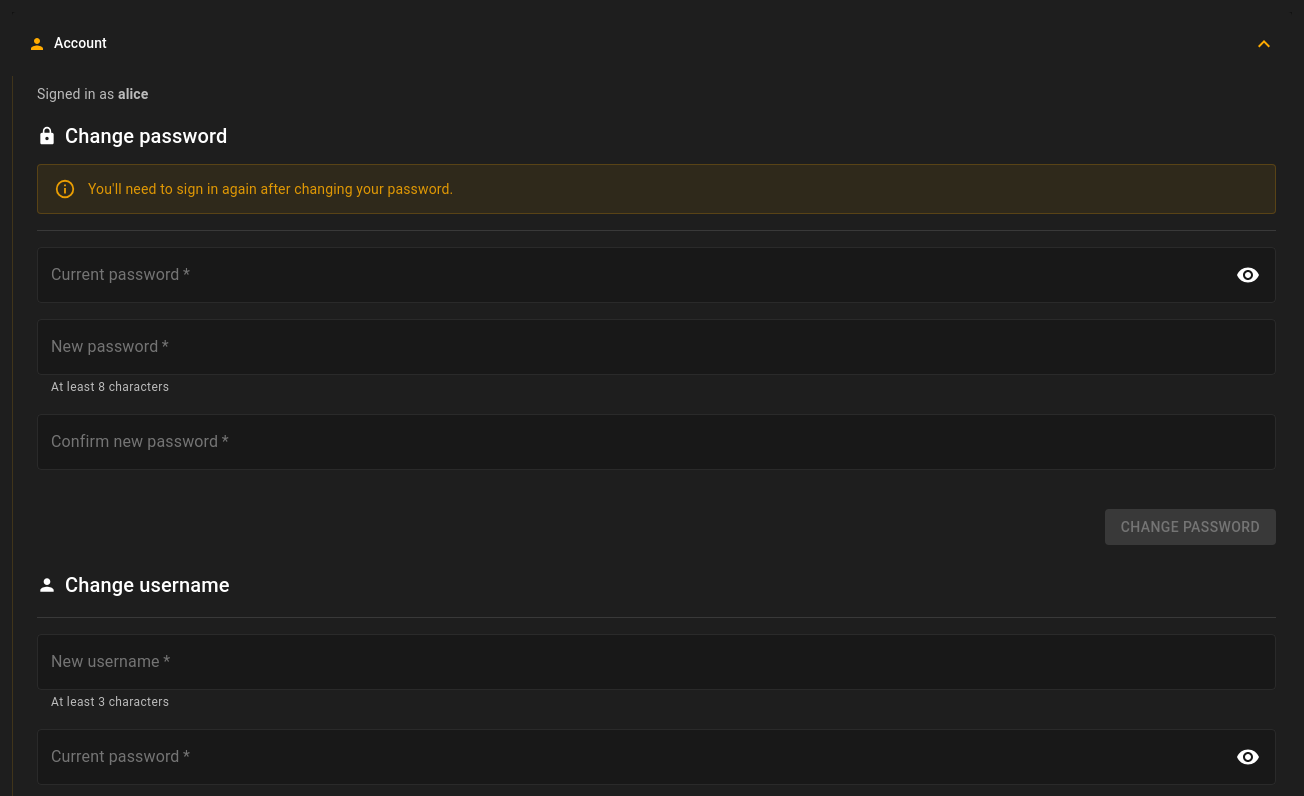
Test: AccountAccordion › can dismiss the password error alert
The image size is (1304, 796).
Type "oldpass" into the 1st password field labelled "Current password *" at (630, 275), box [37,247,1223,303]
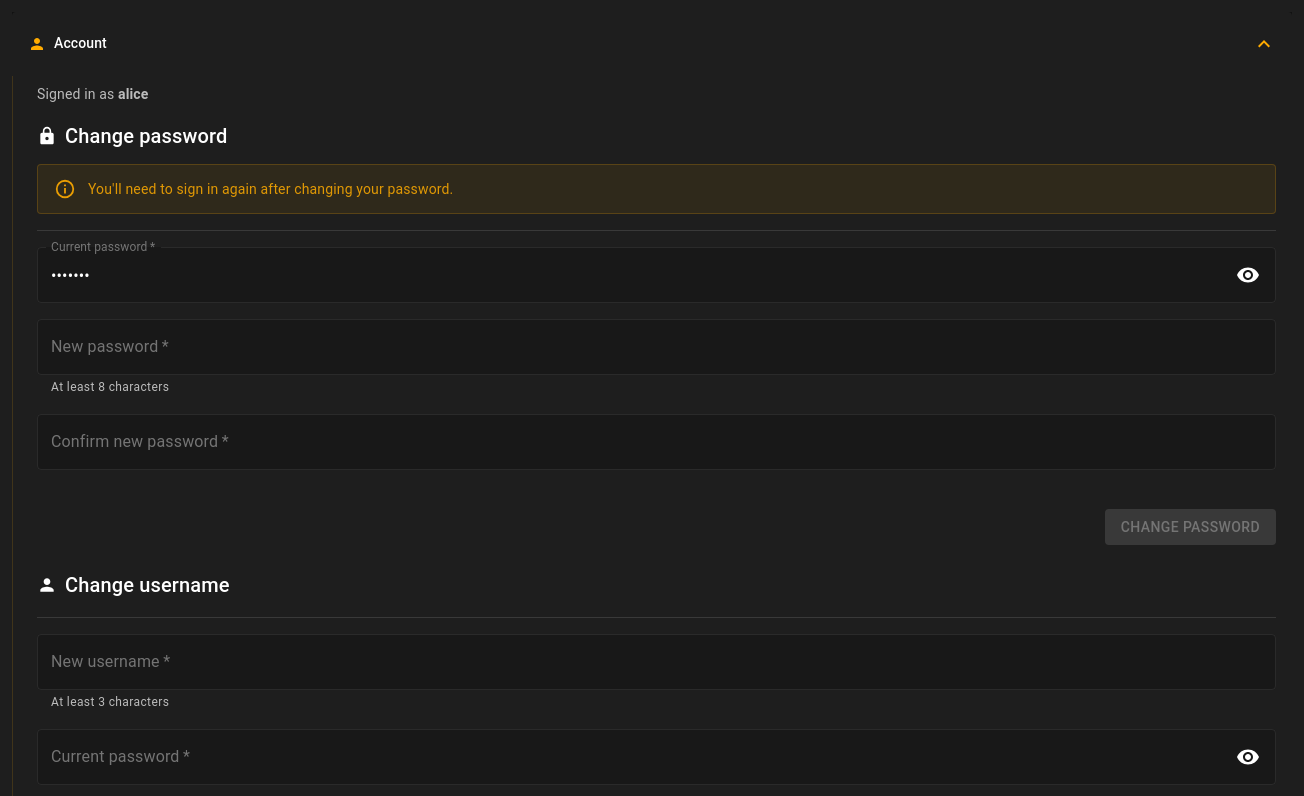
Type "newpassword123" into the password field labelled "New password *" at (656, 347), box [37,319,1276,375]
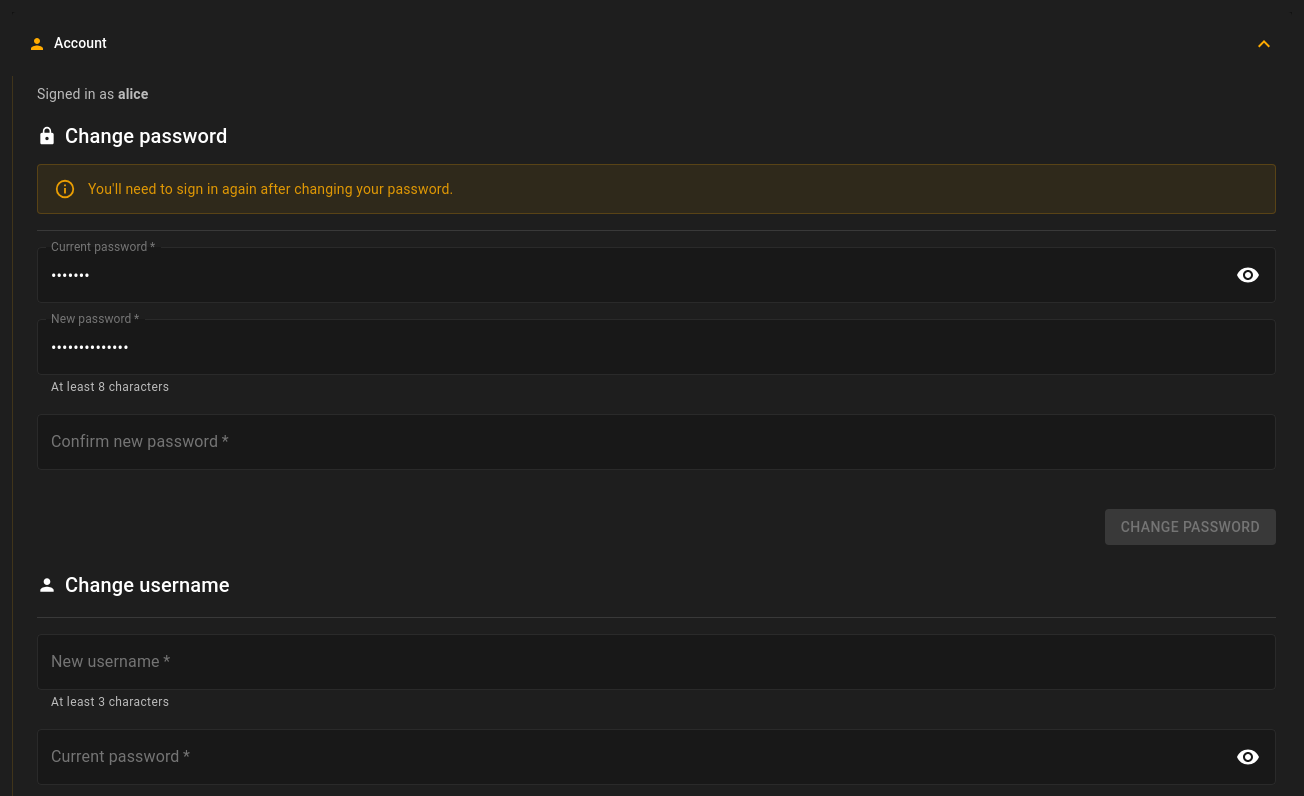
Type "newpassword123" into the password field labelled "Confirm new password *" at (656, 442), box [37,414,1276,470]
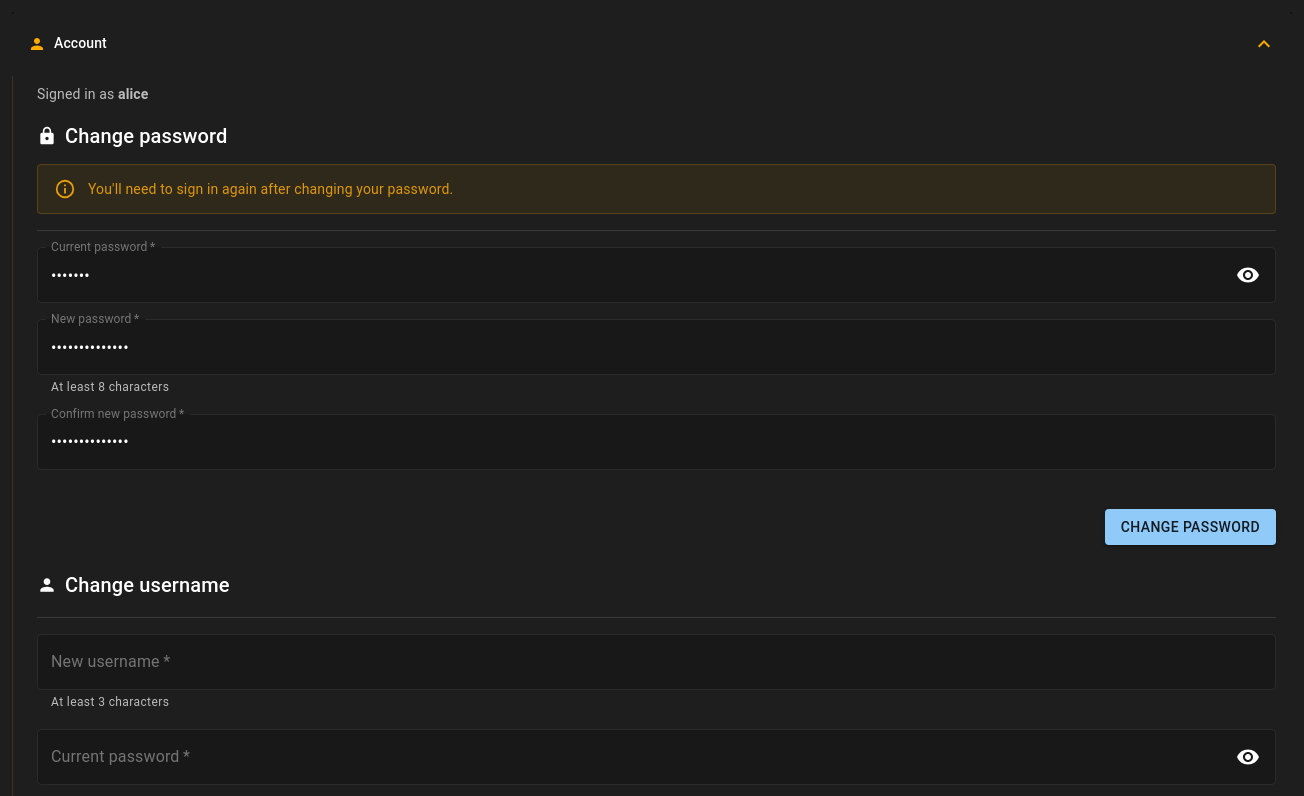
Click the button "Change password" at (1190, 527), box [1105,509,1276,545]
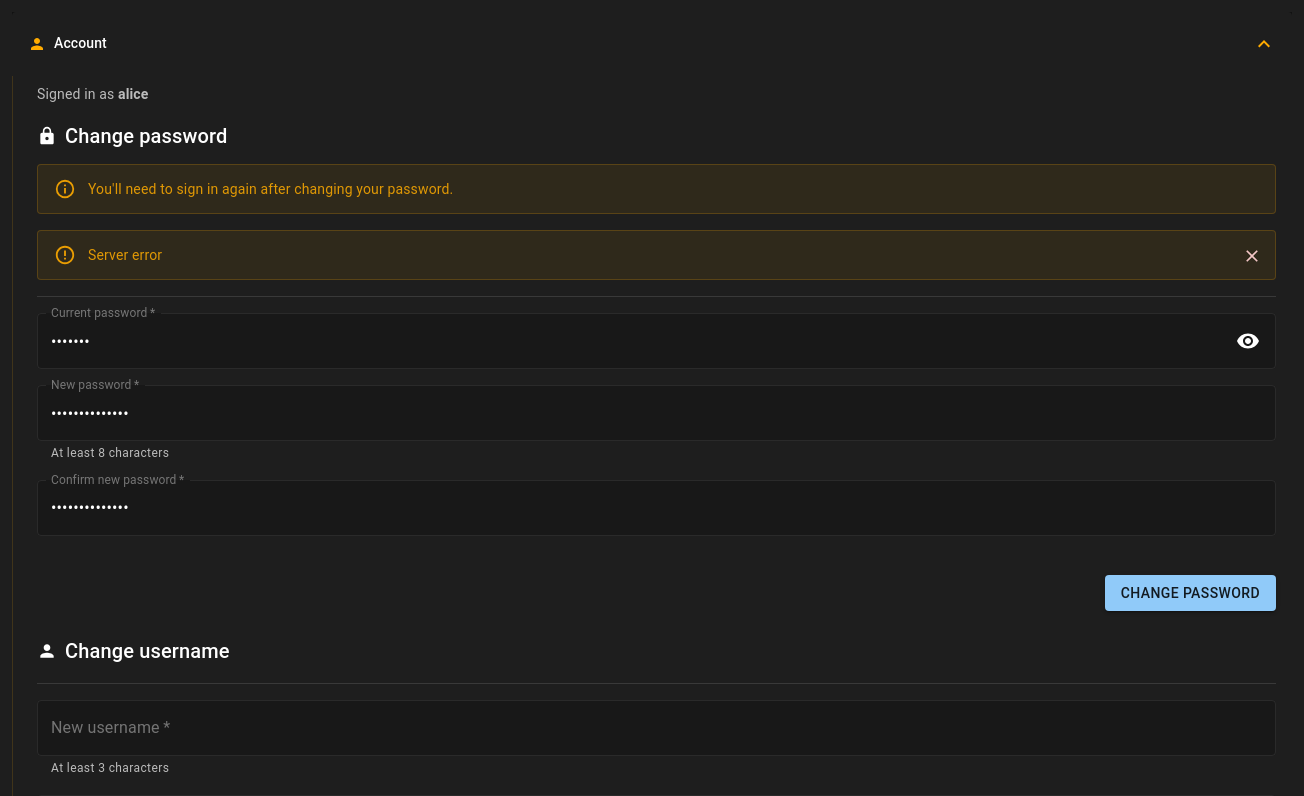
Expected: the text "Server error" is shown, [88,247,162,263]
Click the button named "close" at (1252, 256), box [1237,241,1267,271]
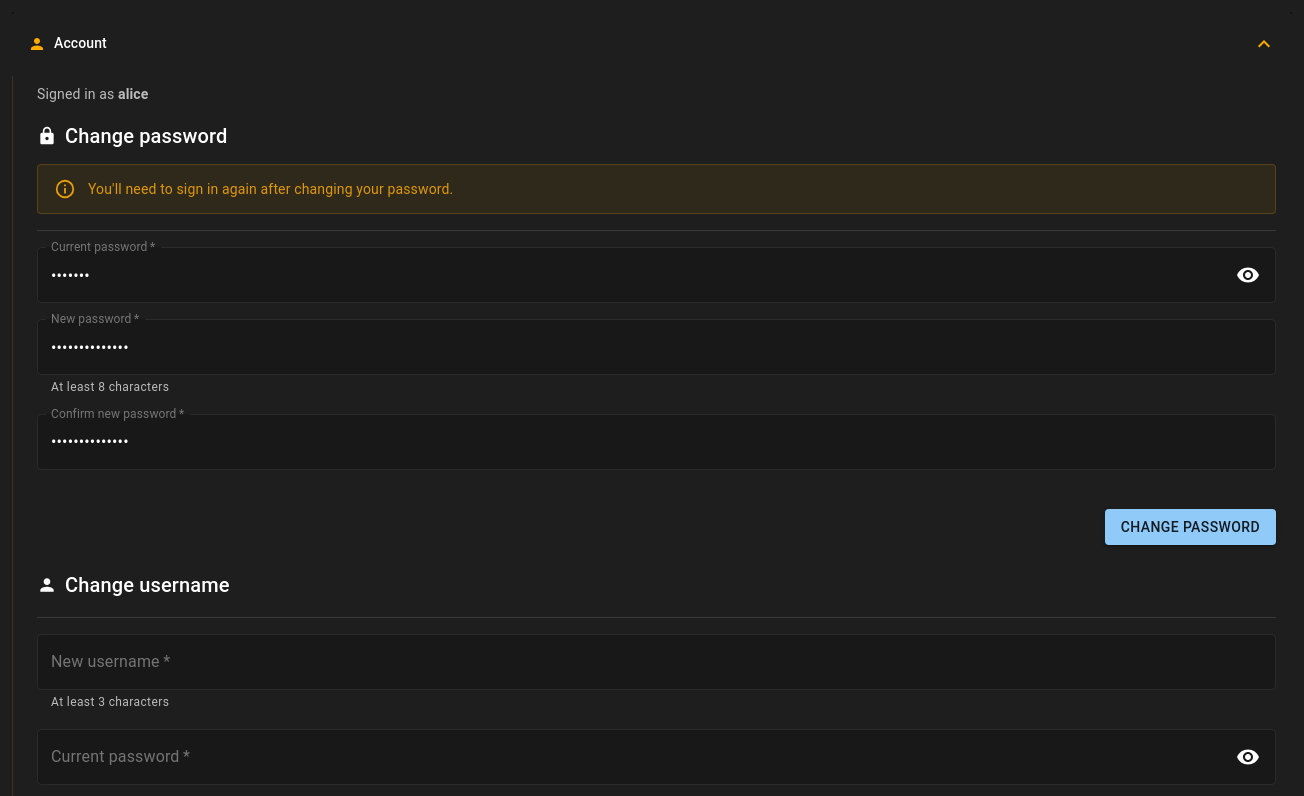
Expected: the text "Server error" is gone
